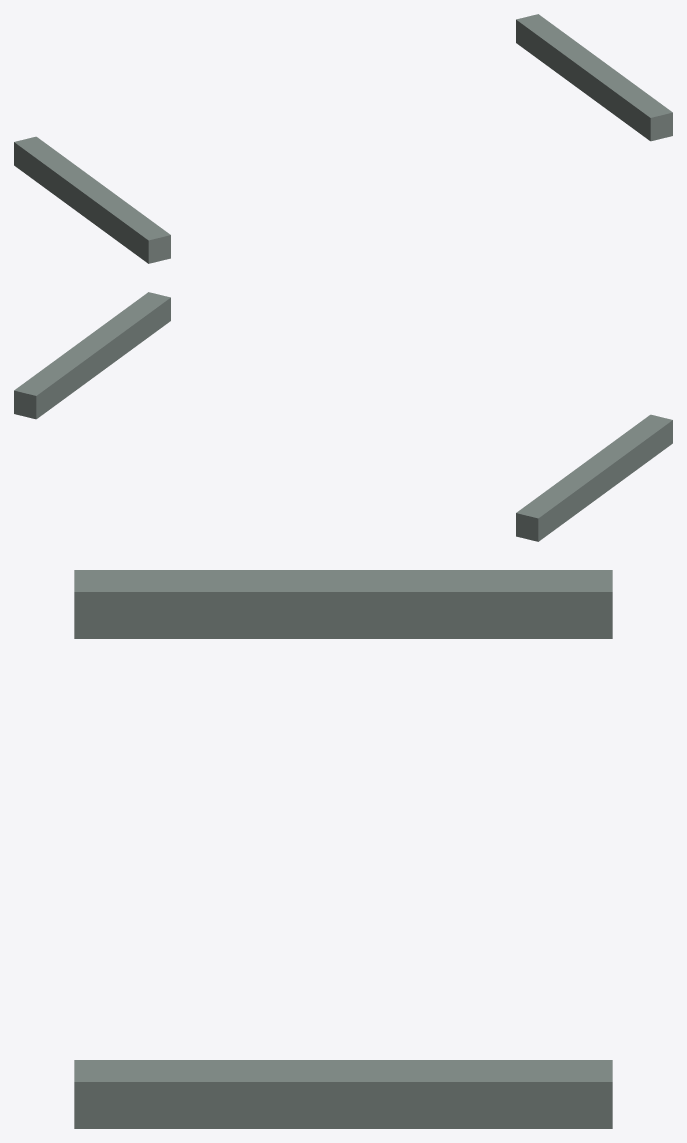
Rendered from Bumper.glb.
The picture shows the model from 3 angles, top to bottom: view 1: azimuth 30°, elevation 25°; view 2: azimuth 150°, elevation 25°; view 3: azimuth 270°, elevation 25°; orthographic projection. The views are drawn at different scales.
Parts seen in each view (by area): view 1: Cube.036; view 2: Cube.036; view 3: Cube.036.
Part boxes in pixels (bbox=[...]): Cube.036: bbox=[14, 14, 672, 263]; Cube.036: bbox=[14, 292, 672, 541]; Cube.036: bbox=[74, 570, 612, 1128].
Size of the model in its own units: 0.151 by 0.00645 by 0.0671.
Materials: 1 (1 with a texture image).
